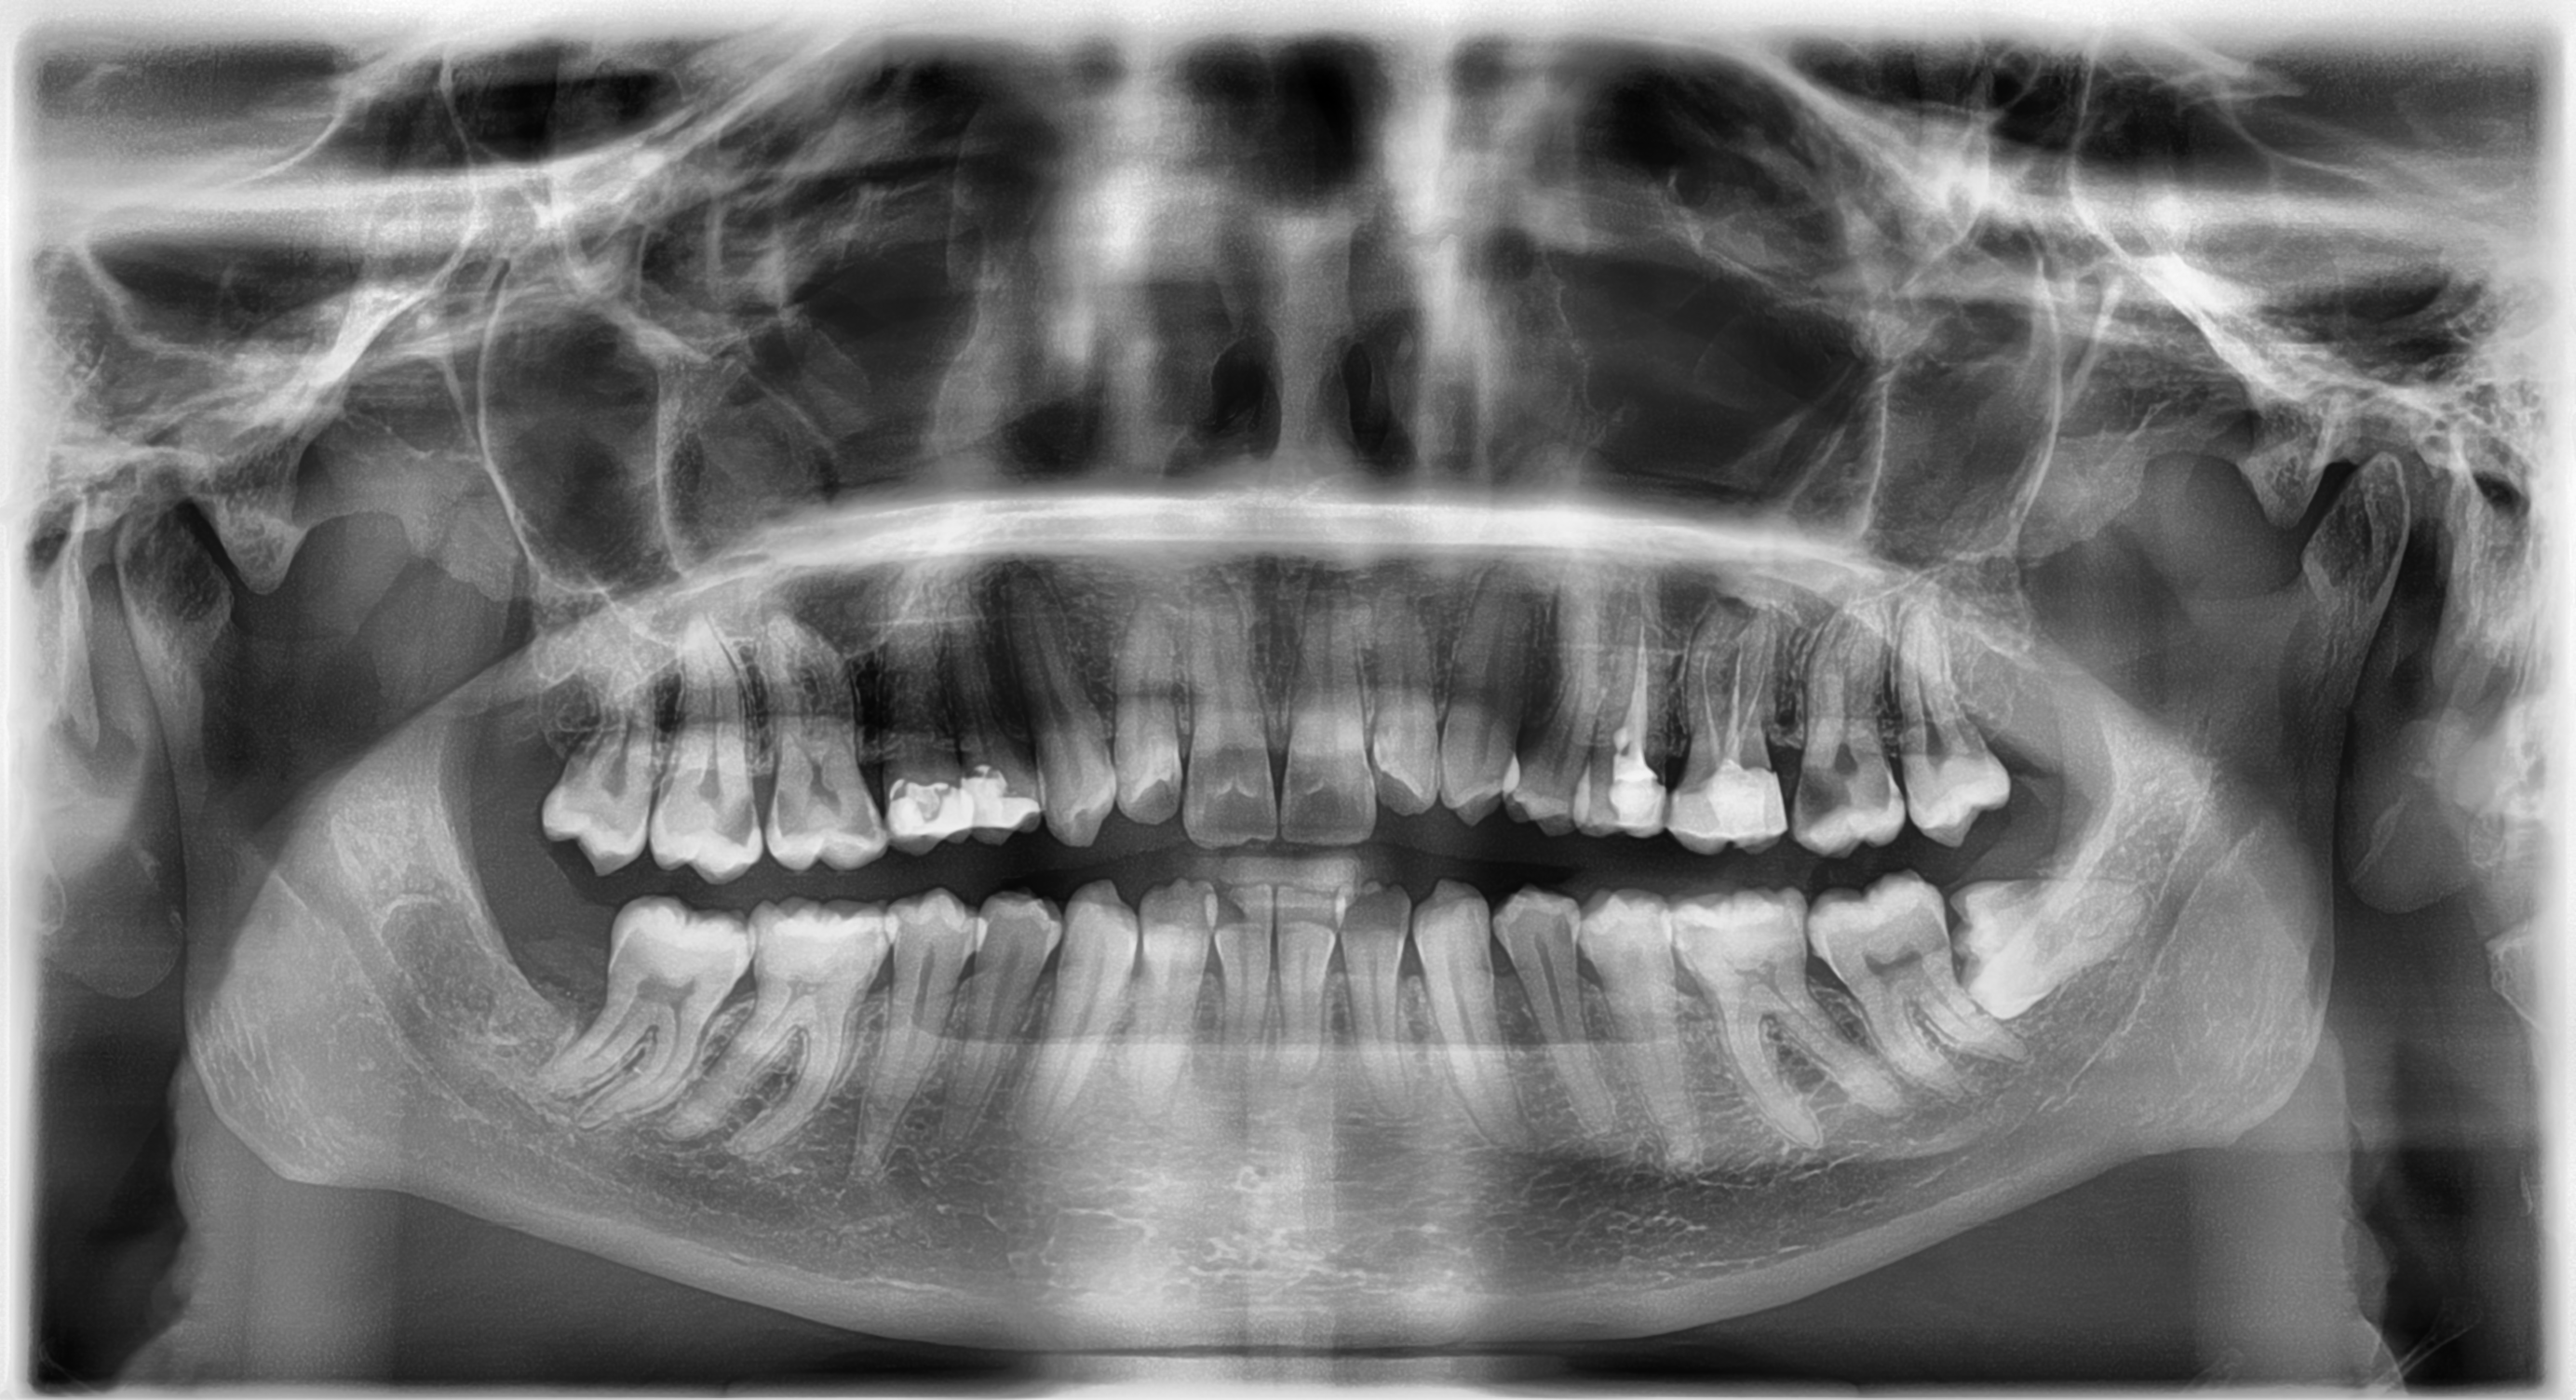cordal: (1855, 581, 2067, 859), (495, 617, 707, 893), (1936, 857, 2193, 1031)
tratamiento_conducto: (1652, 562, 1809, 874), (1543, 541, 1698, 853)
